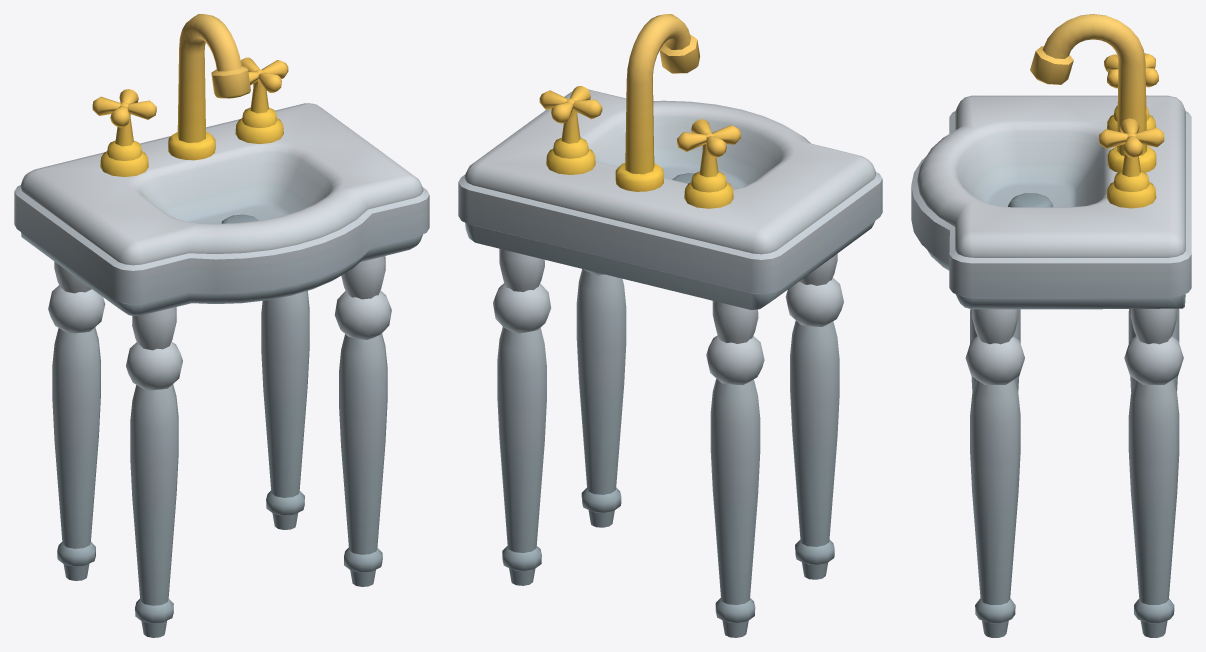
File: Wash_Basin_06.glb
3 views of the same model, side by side, from view 1: azimuth 30°, elevation 25°; view 2: azimuth 150°, elevation 25°; view 3: azimuth 270°, elevation 25° (orthographic). The views are drawn at different scales.
Visible parts, largest first — view 1: Wash_Basin_06; view 2: Wash_Basin_06; view 3: Wash_Basin_06.
Part boxes in pixels (left/top/right/bottom): Wash_Basin_06: left=14, top=14, right=429, bottom=637; Wash_Basin_06: left=458, top=14, right=882, bottom=637; Wash_Basin_06: left=911, top=14, right=1191, bottom=637.
Size of the model in its own units: 0.687 by 1.16 by 0.5219.
1 material, 1 textured.
